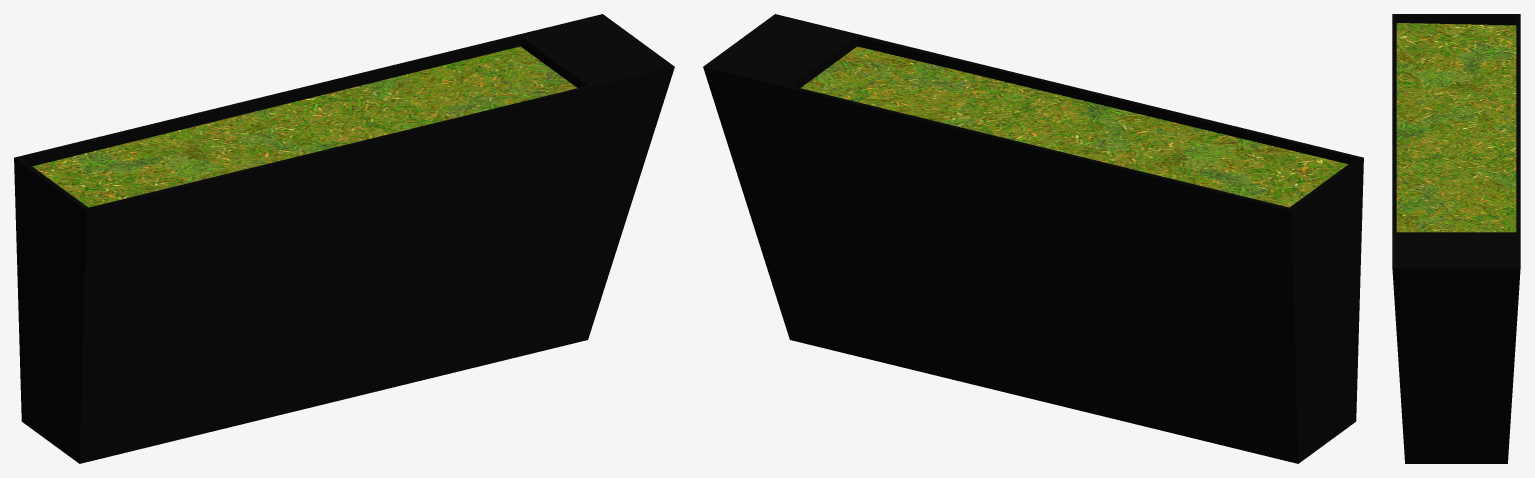
The model's file is W_O_Playground_Glassbed_003_L1.fbx.
3 renders of one model, left to right at view 1: azimuth 30°, elevation 25°; view 2: azimuth 150°, elevation 25°; view 3: azimuth 270°, elevation 25°, orthographic. The views are drawn at different scales.
Parts seen in each view (by area): view 1: W_O_Playground_Glassbed_003_L1; view 2: W_O_Playground_Glassbed_003_L1; view 3: W_O_Playground_Glassbed_003_L1.
Boxes of the visible parts, x1,y1,x2,y2 form: W_O_Playground_Glassbed_003_L1: (14, 14, 674, 463); W_O_Playground_Glassbed_003_L1: (703, 14, 1363, 463); W_O_Playground_Glassbed_003_L1: (1392, 14, 1520, 463).
Bounding box in the file's own units: 1.48 × 0.6202 × 0.3147.
